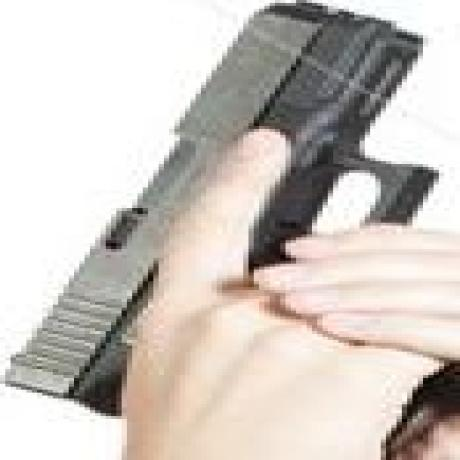1: (106, 122, 460, 460)
weapon: (14, 8, 460, 444)
